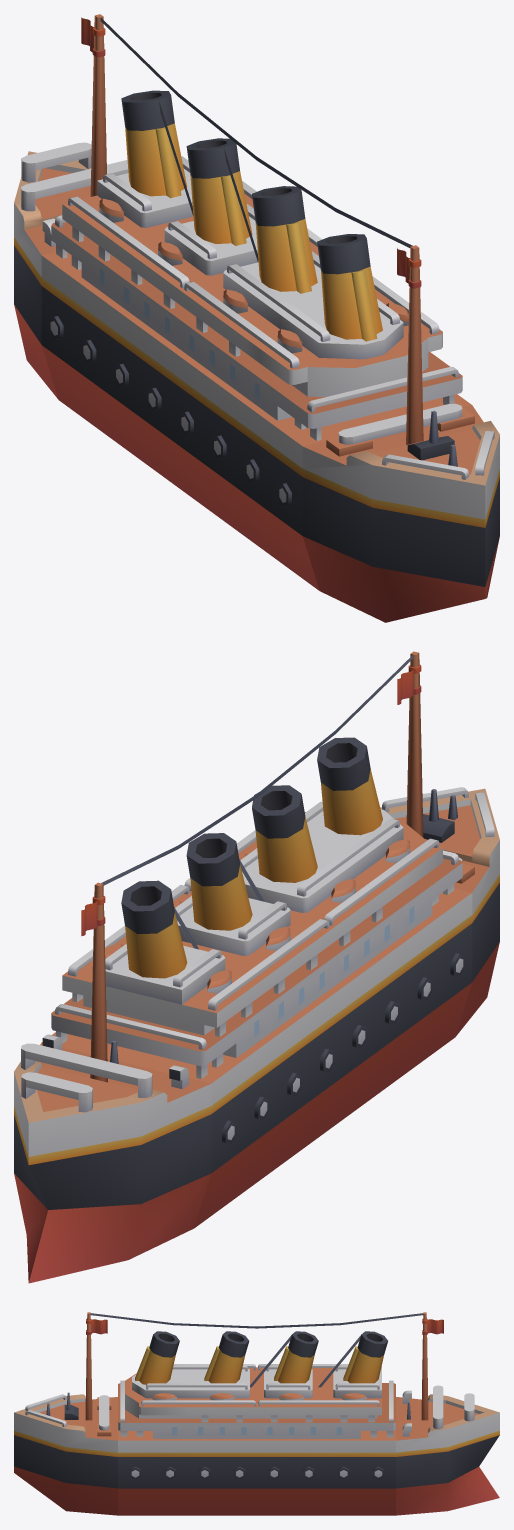
File: ship-ocean-liner.glb
3 renders of one model, top to bottom at view 1: azimuth 30°, elevation 25°; view 2: azimuth 150°, elevation 25°; view 3: azimuth 270°, elevation 25°, orthographic. The views are drawn at different scales.
Parts seen in each view (by area): view 1: ship-ocean-liner; view 2: ship-ocean-liner; view 3: ship-ocean-liner.
Part boxes in pixels (x1=…): ship-ocean-liner: x1=14, y1=14, x2=499, y2=622; ship-ocean-liner: x1=14, y1=651, x2=499, y2=1283; ship-ocean-liner: x1=14, y1=1312, x2=499, y2=1515.
Bounding box in the file's own units: 4.76 × 8.93 × 21.28.
